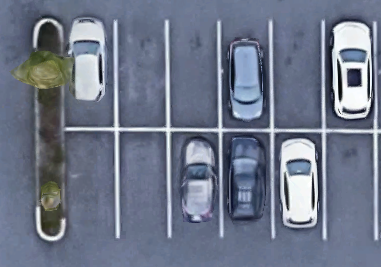Occupied: (62, 21, 116, 129), (168, 130, 222, 238), (219, 20, 272, 129), (272, 131, 325, 239), (221, 130, 273, 239)
Vacant: (62, 129, 118, 238), (116, 130, 171, 238), (270, 21, 324, 130), (323, 21, 375, 132), (116, 20, 168, 130), (325, 131, 377, 240), (168, 20, 219, 130)
